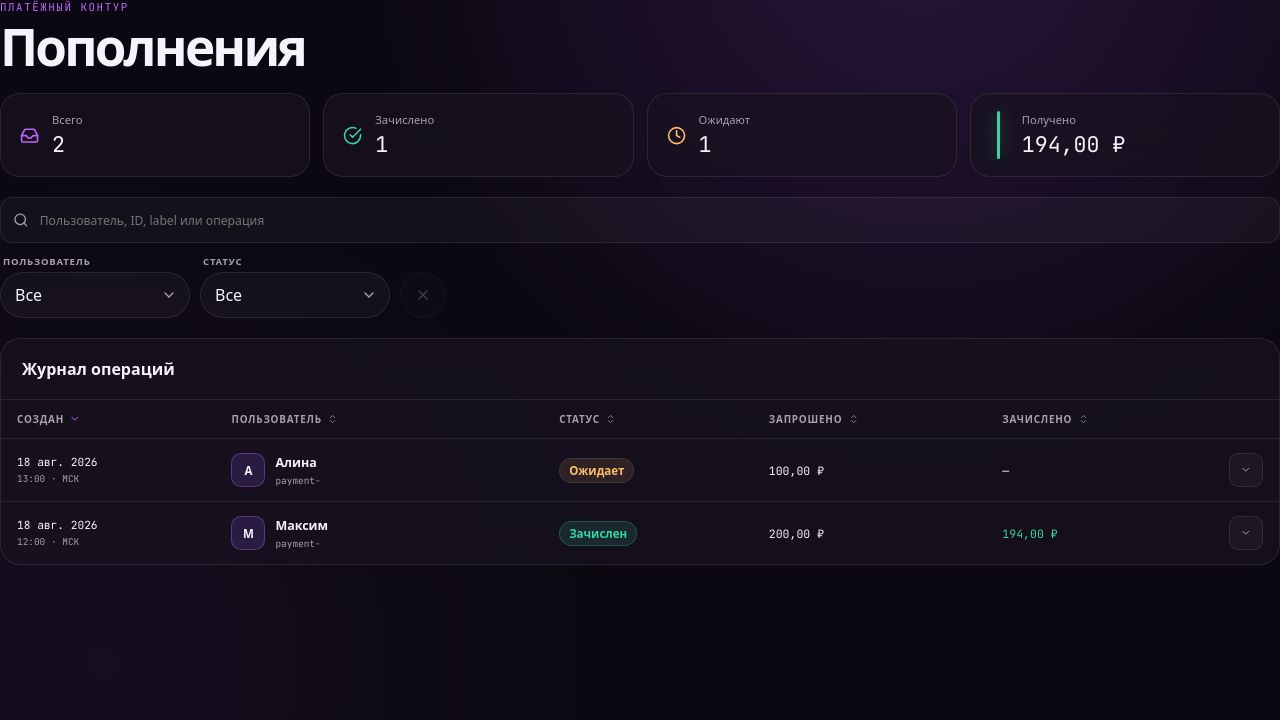
Test case: TopUpsPage › shows technical details inline in the operations table
Expected: the heading "Журнал операций" is shown, [22,358,175,380]
Click the button named "Показать детали платежа". click: (1246, 470)
box: [1229,453,1263,487]
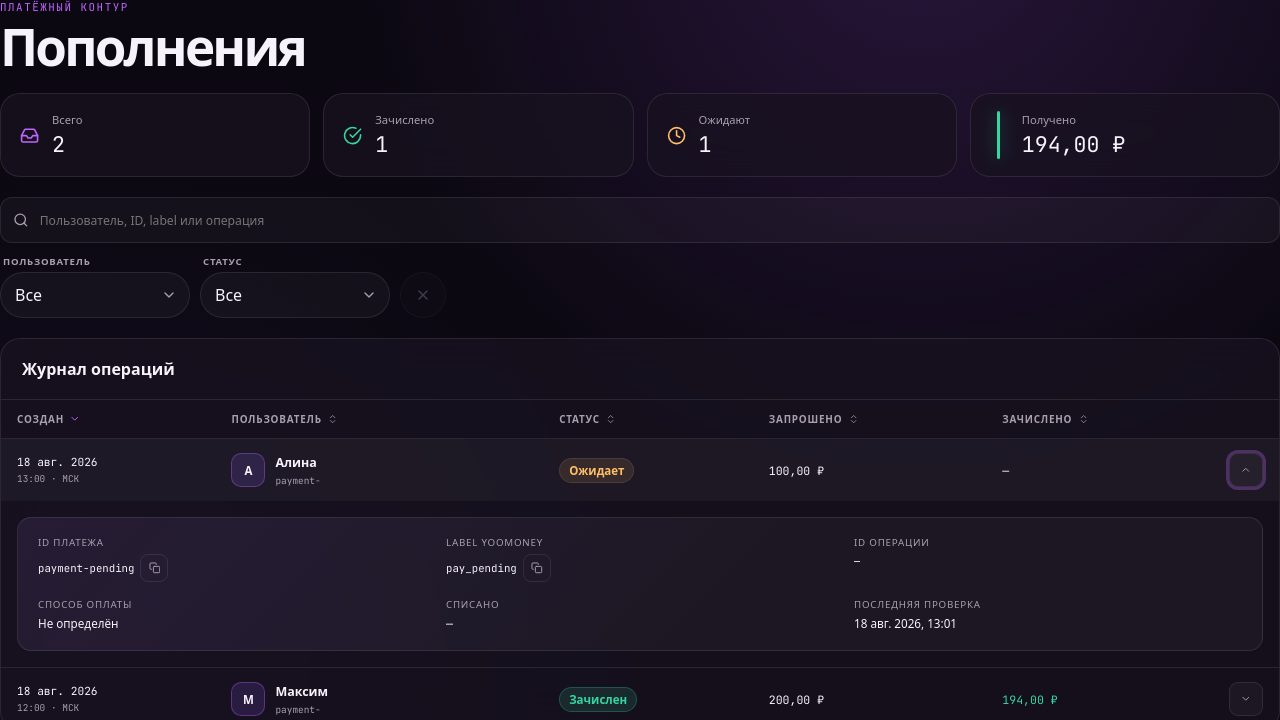
Expected: the text "Label YooMoney" is shown, [446,536,543,549]
Expected: the text "Способ оплаты" is shown, [38,598,132,611]
Expected: the text "Последняя проверка" is shown, [854,598,981,611]
